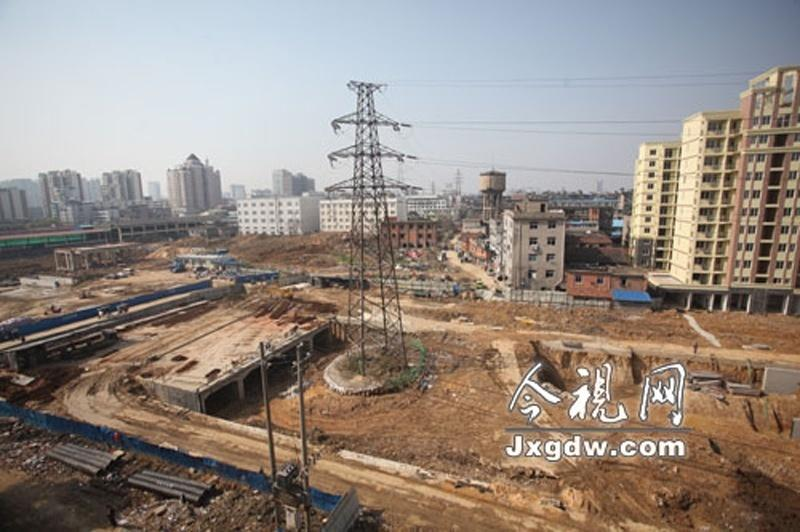power_tower: (316, 67, 435, 385)
